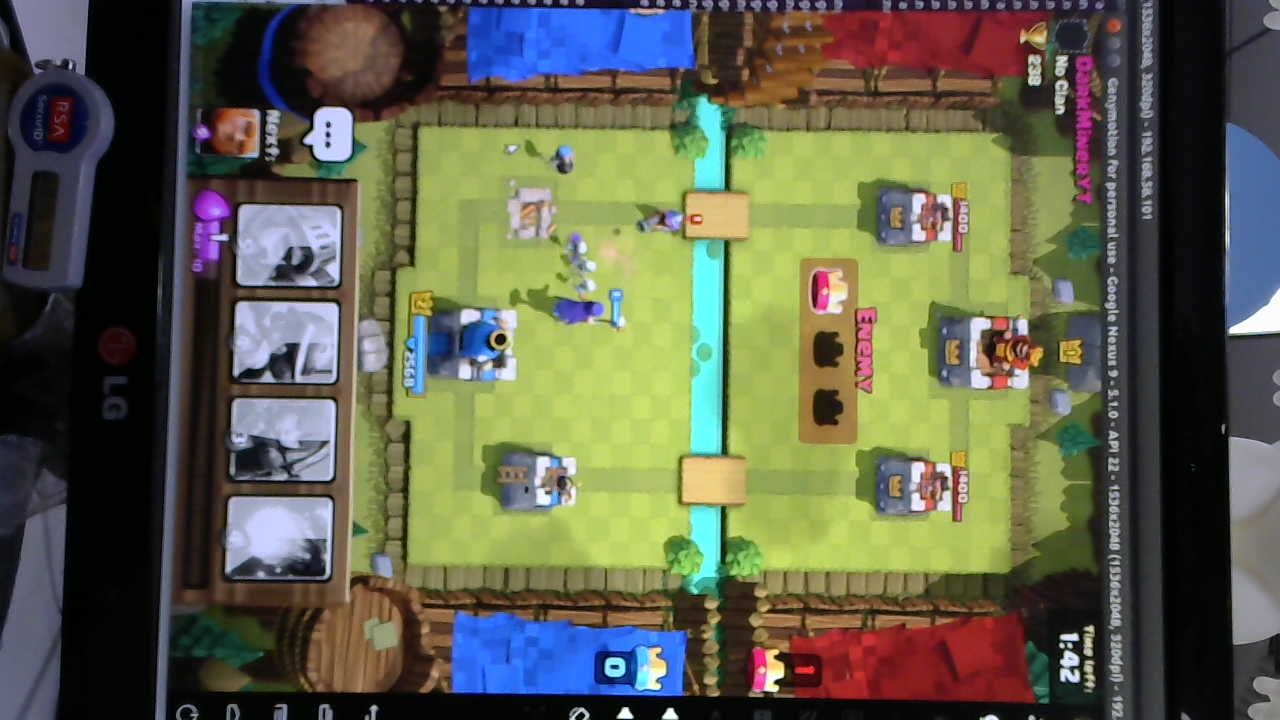arena: (499, 451, 584, 518)
bomb: (546, 140, 580, 176)
darena: (505, 179, 562, 246)
earena: (877, 457, 958, 523), (875, 184, 954, 250)
eking: (922, 313, 1033, 397)
king: (434, 305, 516, 389)
musketeer: (637, 206, 687, 234)
skeleton: (563, 240, 600, 295)
witch: (545, 296, 626, 330)
